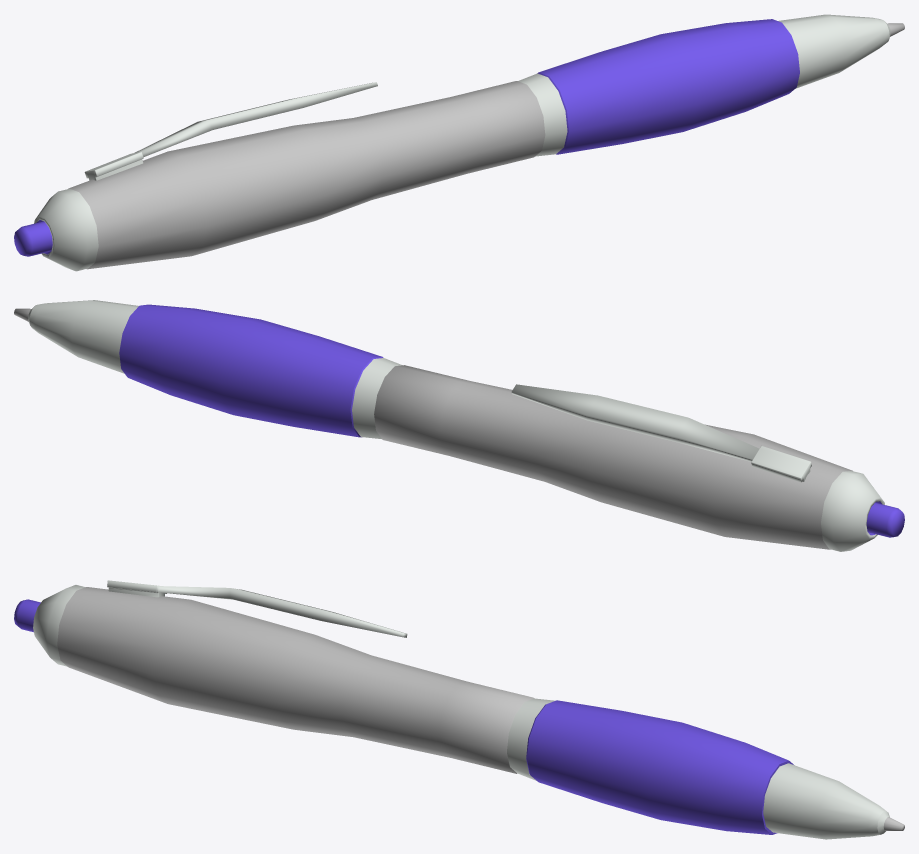
File: BallPen_Clean2.fbx
3 renders of one model, top to bottom at view 1: azimuth 30°, elevation 25°; view 2: azimuth 150°, elevation 25°; view 3: azimuth 330°, elevation 25°, orthographic.
Parts seen in each view (by area): view 1: ballpenClean; view 2: ballpenClean; view 3: ballpenClean.
Boxes of the visible parts, <box> form: ballpenClean: <box>14,14,904,271</box>; ballpenClean: <box>14,300,904,551</box>; ballpenClean: <box>14,580,904,839</box>.
Bounding box in the file's own units: 17.45 × 2.17 × 1.83.
